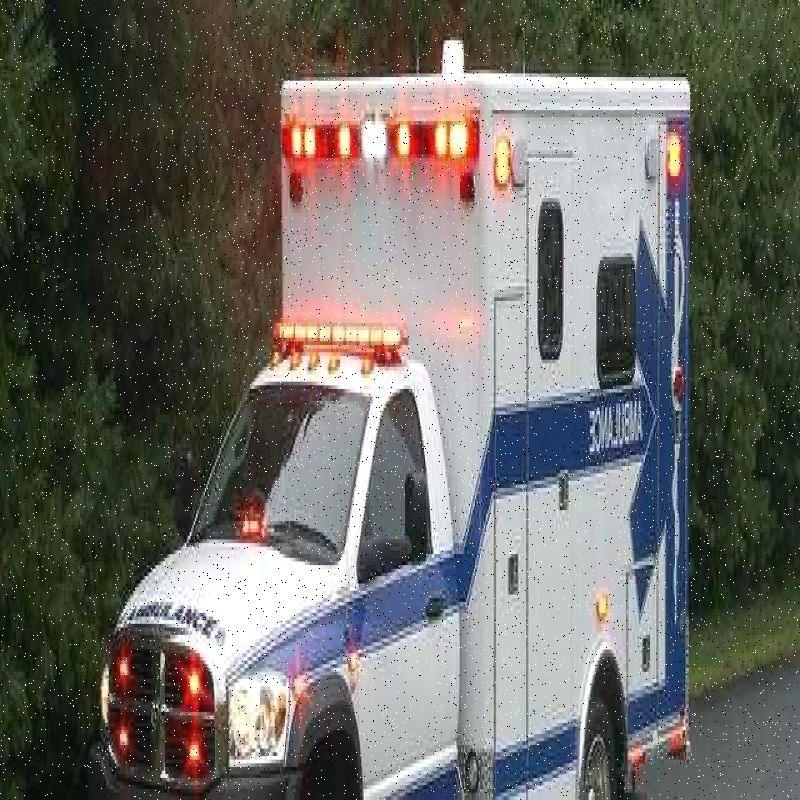AmbulanceSiren: (276, 105, 486, 220), (271, 316, 413, 405)
